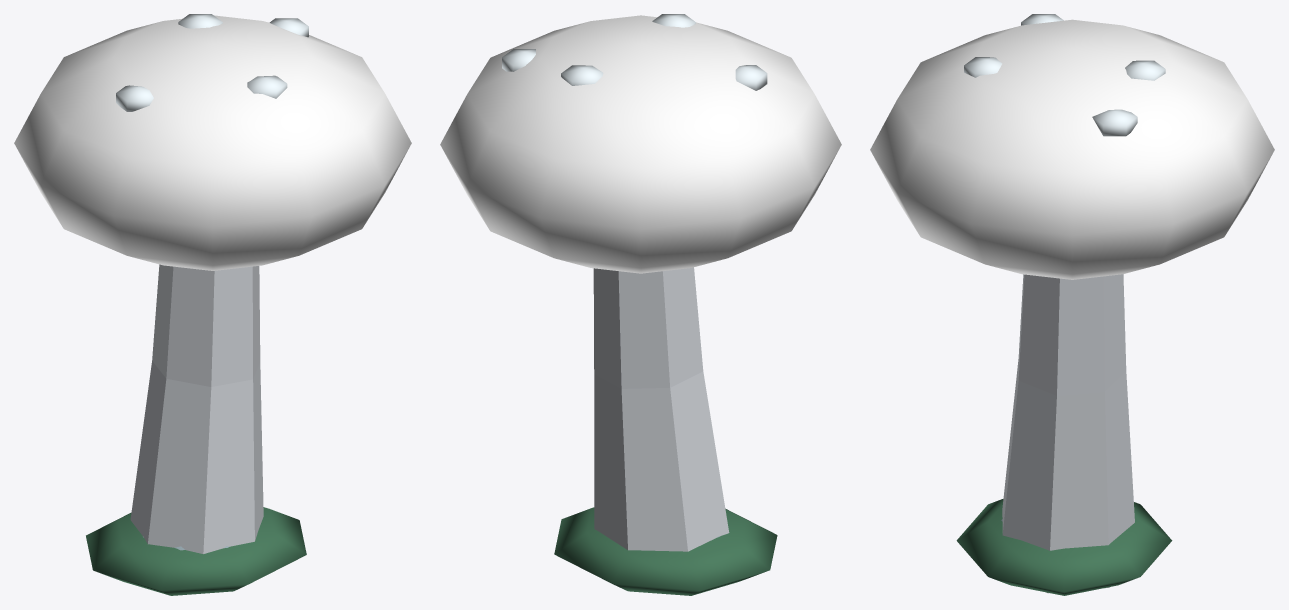
File: GlowMushroomTall.fbx
3 views of the same model, side by side, from view 1: azimuth 30°, elevation 25°; view 2: azimuth 150°, elevation 25°; view 3: azimuth 270°, elevation 25° (orthographic).
Parts seen in each view (by area): view 1: Glow, Frame; view 2: Glow, Frame; view 3: Glow, Frame.
Boxes of the visible parts, x1=… form: Glow: x1=14, y1=15, x2=411, y2=270; Frame: x1=86, y1=14, x2=308, y2=595; Glow: x1=440, y1=15, x2=841, y2=273; Frame: x1=502, y1=14, x2=777, y2=595; Glow: x1=870, y1=19, x2=1274, y2=279; Frame: x1=956, y1=14, x2=1172, y2=595.
Bounding box in the file's own units: 3 × 4.37 × 3.
1 material, 1 textured.
